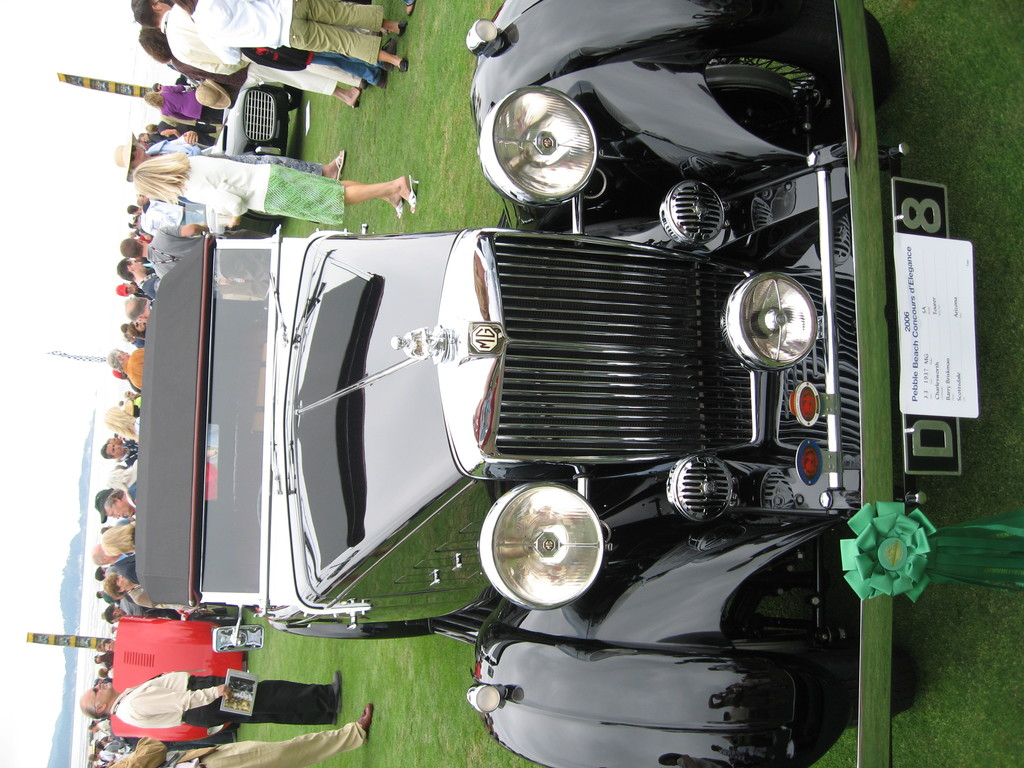Car: (136, 0, 972, 767)
